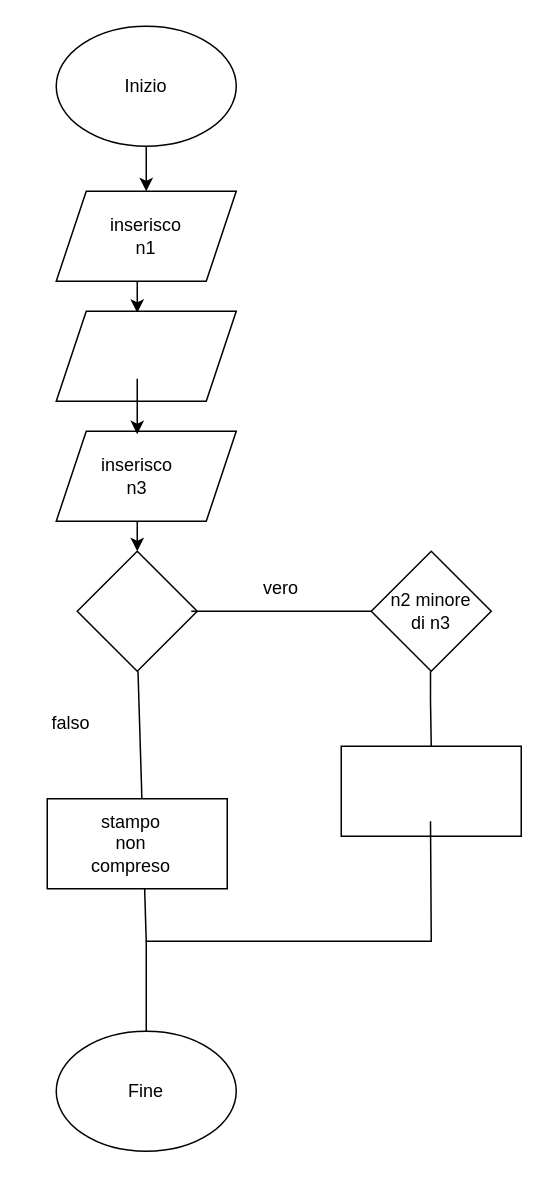
Image size: 548x1178. Some labels were removed from this diagram. Here are the shapes that lost their labels. From the top down, the centre of each, then its label:
(x=145, y=355): inserisco n2
(x=136, y=610): n2 è maggiore di n1
(x=430, y=790): stampa il numero è compreso
